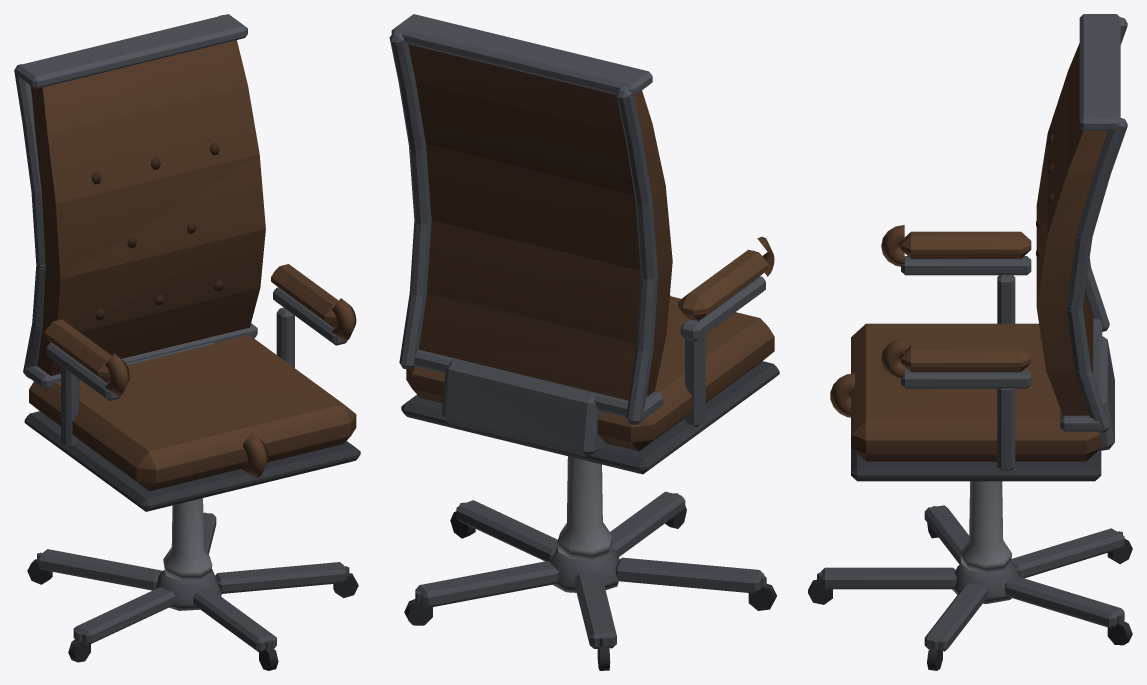
File: exec_chair.glb
The picture shows the model from 3 angles, left to right: view 1: azimuth 30°, elevation 25°; view 2: azimuth 150°, elevation 25°; view 3: azimuth 270°, elevation 25°; orthographic projection. The views are drawn at different scales.
Parts seen in each view (by area): view 1: exec_chair; view 2: exec_chair; view 3: exec_chair.
Boxes of the visible parts, <box> form: exec_chair: <box>14,14,360,670</box>; exec_chair: <box>389,14,779,670</box>; exec_chair: <box>808,14,1132,670</box>.
Size of the model in its own units: 0.6827 by 1.18 by 0.6493.
